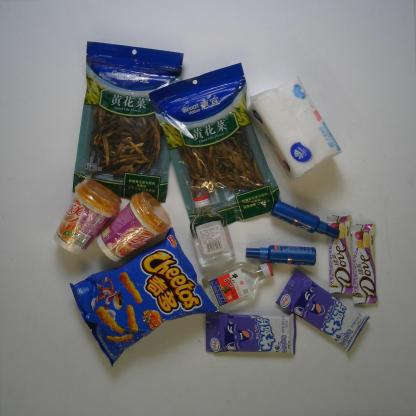Alcohol: (197, 254, 277, 314), (184, 192, 237, 270)
Candy: (272, 268, 372, 353), (203, 306, 302, 356)
Chocolate: (349, 221, 380, 308), (325, 211, 355, 297)
Dried Food: (149, 63, 284, 223), (67, 34, 189, 206)
Instant Drink: (97, 190, 171, 268), (51, 178, 117, 259)
Personal Hygiene: (269, 198, 344, 244), (242, 240, 321, 268)
Puffed Food: (64, 235, 218, 370)
Tissue: (249, 74, 345, 182)
